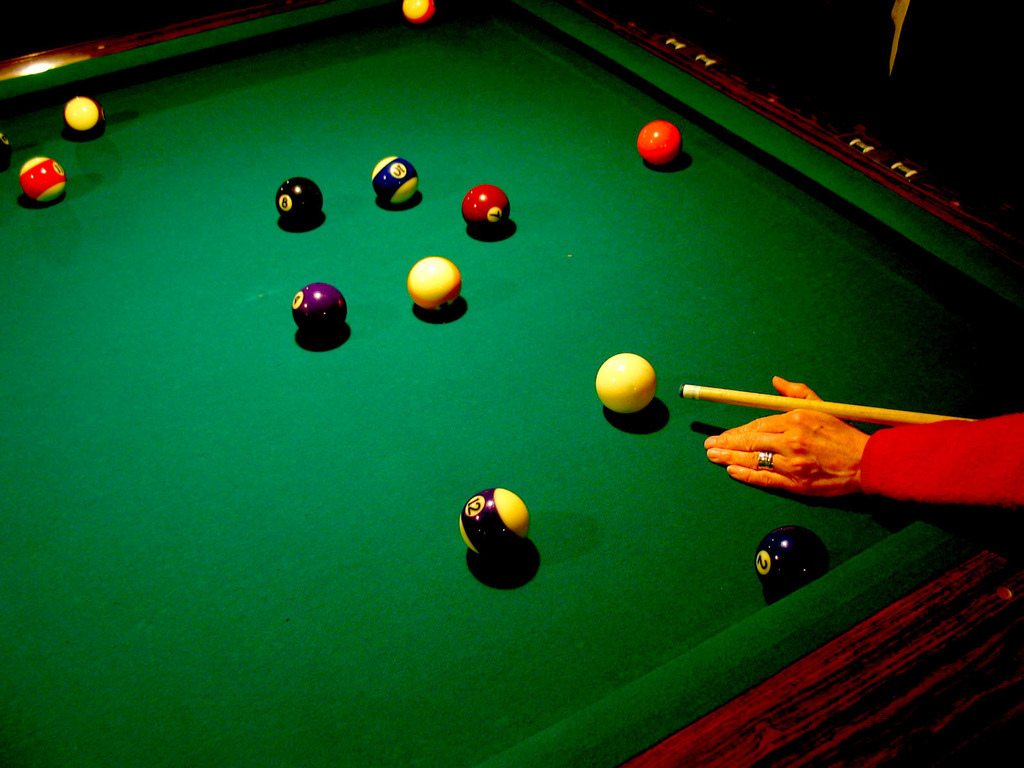Ball: (461, 490, 529, 564), (762, 531, 831, 600), (598, 355, 655, 409), (294, 282, 347, 339), (406, 259, 458, 311), (373, 157, 420, 208), (276, 179, 320, 229), (19, 159, 67, 204), (636, 120, 682, 166), (465, 186, 506, 237), (62, 94, 104, 141), (67, 97, 95, 129), (406, 0, 431, 20)
